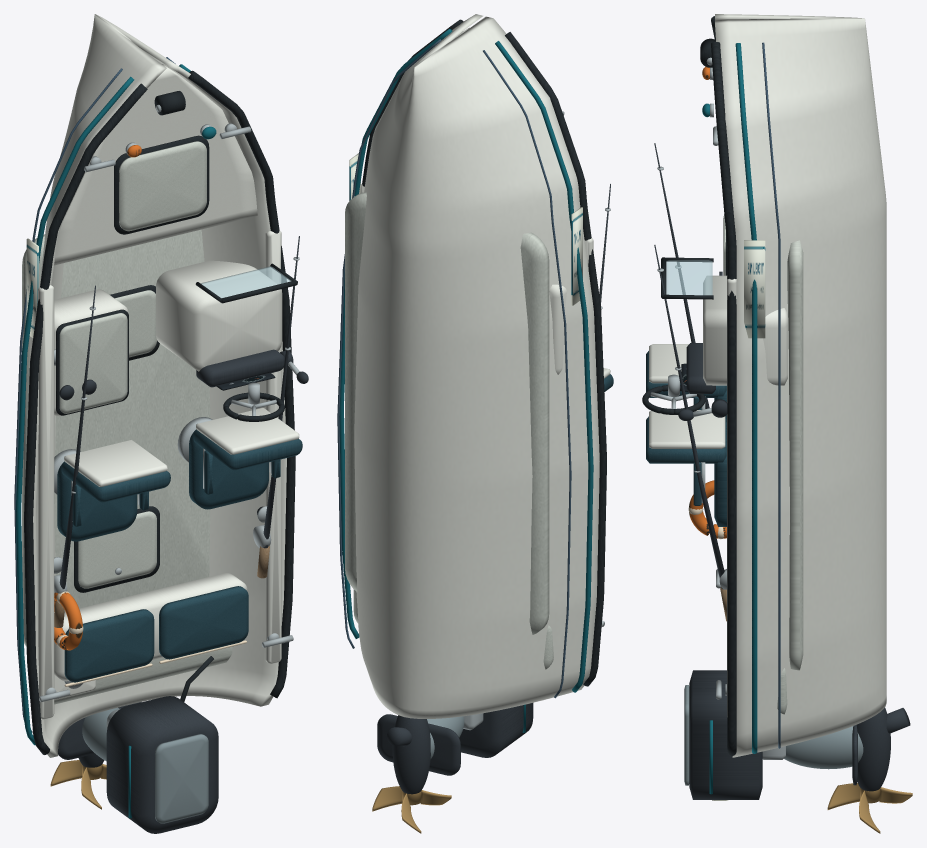
The model's file is PZ_BOAT_01_Tideline520_Fishing_Motorboat.glb.
3 renders of one model, left to right at view 1: azimuth 30°, elevation 25°; view 2: azimuth 150°, elevation 25°; view 3: azimuth 270°, elevation 25°, orthographic. The views are drawn at different scales.
Visible parts, largest first — view 1: HULL_Fiberglass_Watertight_V_Shell, DECK_Main_Cockpit_NonSlip, DECK_Foredeck_Bow_Tapered_FRP, HELM_Starboard_Console_FRP, ENGINE_Main_Cowling_Graphite, GUNWALE_Port_Coaming_Top, GUNWALE_Port_Black_Rub_Rail, DECK_Bow_Hatch_Lid, FISHING_Port_Tackle_Storage_Top, SEAT_Aft_Bench_Navy_Cushion_1, GUNWALE_Starboard_Black_Rub_Rail, SEAT_Aft_Bench_Navy_Cushion_0 (+29 smaller); view 2: HULL_Fiberglass_Watertight_V_Shell, DECK_Main_Cockpit_NonSlip, GUNWALE_Port_Black_Rub_Rail, HULL_Port_Teal_Sheer_Stripe, ENGINE_Main_Cowling_Graphite, HULL_Starboard_Teal_Sheer_Stripe, ENGINE_Gearcase_Torpedo, ENGINE_AntiVentilation_Plate, HULL_Port_Waterline_Pinstripe, HULL_Starboard_Waterline_Pinstripe, FISHING_Port_Tackle_Storage, BRANDING_Port_TIDELINE_520_Decal (+2 smaller); view 3: HULL_Fiberglass_Watertight_V_Shell, GUNWALE_Starboard_Black_Rub_Rail, DECK_Main_Cockpit_NonSlip, ENGINE_Main_Cowling_Graphite, HELM_Starboard_Console_FRP, HULL_Starboard_Teal_Sheer_Stripe, SEAT_Starboard_Skipper_Backrest_HardShell, ENGINE_Shaft_Housing, ENGINE_Gearcase_Torpedo, HULL_Starboard_Waterline_Pinstripe, BRANDING_Starboard_TIDELINE_520_Decal, HELM_Console_Windscreen_Tinted_Transparent (+11 smaller).
Boxes of the visible parts, <box> form: HULL_Fiberglass_Watertight_V_Shell: <box>33,14,286,757</box>; DECK_Main_Cockpit_NonSlip: <box>22,229,210,646</box>; DECK_Foredeck_Bow_Tapered_FRP: <box>54,64,257,265</box>; HELM_Starboard_Console_FRP: <box>156,260,282,371</box>; ENGINE_Main_Cowling_Graphite: <box>106,696,218,833</box>; GUNWALE_Port_Coaming_Top: <box>38,285,54,719</box>; GUNWALE_Port_Black_Rub_Rail: <box>24,83,147,754</box>; DECK_Bow_Hatch_Lid: <box>119,141,206,231</box>; FISHING_Port_Tackle_Storage_Top: <box>59,313,127,413</box>; SEAT_Aft_Bench_Navy_Cushion_1: <box>159,586,248,659</box>; GUNWALE_Starboard_Black_Rub_Rail: <box>188,70,295,698</box>; SEAT_Aft_Bench_Navy_Cushion_0: <box>64,609,154,682</box>; HULL_Fiberglass_Watertight_V_Shell: <box>354,14,599,718</box>; DECK_Main_Cockpit_NonSlip: <box>345,192,549,634</box>; GUNWALE_Port_Black_Rub_Rail: <box>505,32,606,686</box>; HULL_Port_Teal_Sheer_Stripe: <box>495,41,593,692</box>; ENGINE_Main_Cowling_Graphite: <box>459,703,533,757</box>; HULL_Starboard_Teal_Sheer_Stripe: <box>339,29,452,638</box>; ENGINE_Gearcase_Torpedo: <box>392,715,430,794</box>; ENGINE_AntiVentilation_Plate: <box>377,714,460,775</box>; HULL_Port_Waterline_Pinstripe: <box>483,50,571,698</box>; HULL_Starboard_Waterline_Pinstripe: <box>337,39,441,648</box>; FISHING_Port_Tackle_Storage: <box>549,284,566,374</box>; BRANDING_Port_TIDELINE_520_Decal: <box>571,207,582,305</box>; HULL_Fiberglass_Watertight_V_Shell: <box>715,14,886,757</box>; GUNWALE_Starboard_Black_Rub_Rail: <box>711,41,736,755</box>; DECK_Main_Cockpit_NonSlip: <box>787,240,803,670</box>; ENGINE_Main_Cowling_Graphite: <box>689,670,762,799</box>; HELM_Starboard_Console_FRP: <box>703,275,787,385</box>; HULL_Starboard_Teal_Sheer_Stripe: <box>735,43,757,753</box>; SEAT_Starboard_Skipper_Backrest_HardShell: <box>649,410,725,448</box>; ENGINE_Shaft_Housing: <box>784,726,863,769</box>; ENGINE_Gearcase_Torpedo: <box>856,707,890,791</box>; HULL_Starboard_Waterline_Pinstripe: <box>762,42,780,748</box>; BRANDING_Starboard_TIDELINE_520_Decal: <box>744,240,765,338</box>; HELM_Console_Windscreen_Tinted_Transparent: <box>666,260,712,295</box>.
Bounding box in the file's own units: 2.18 × 6 × 1.84.
Materials: 2 (1 with a texture image).
